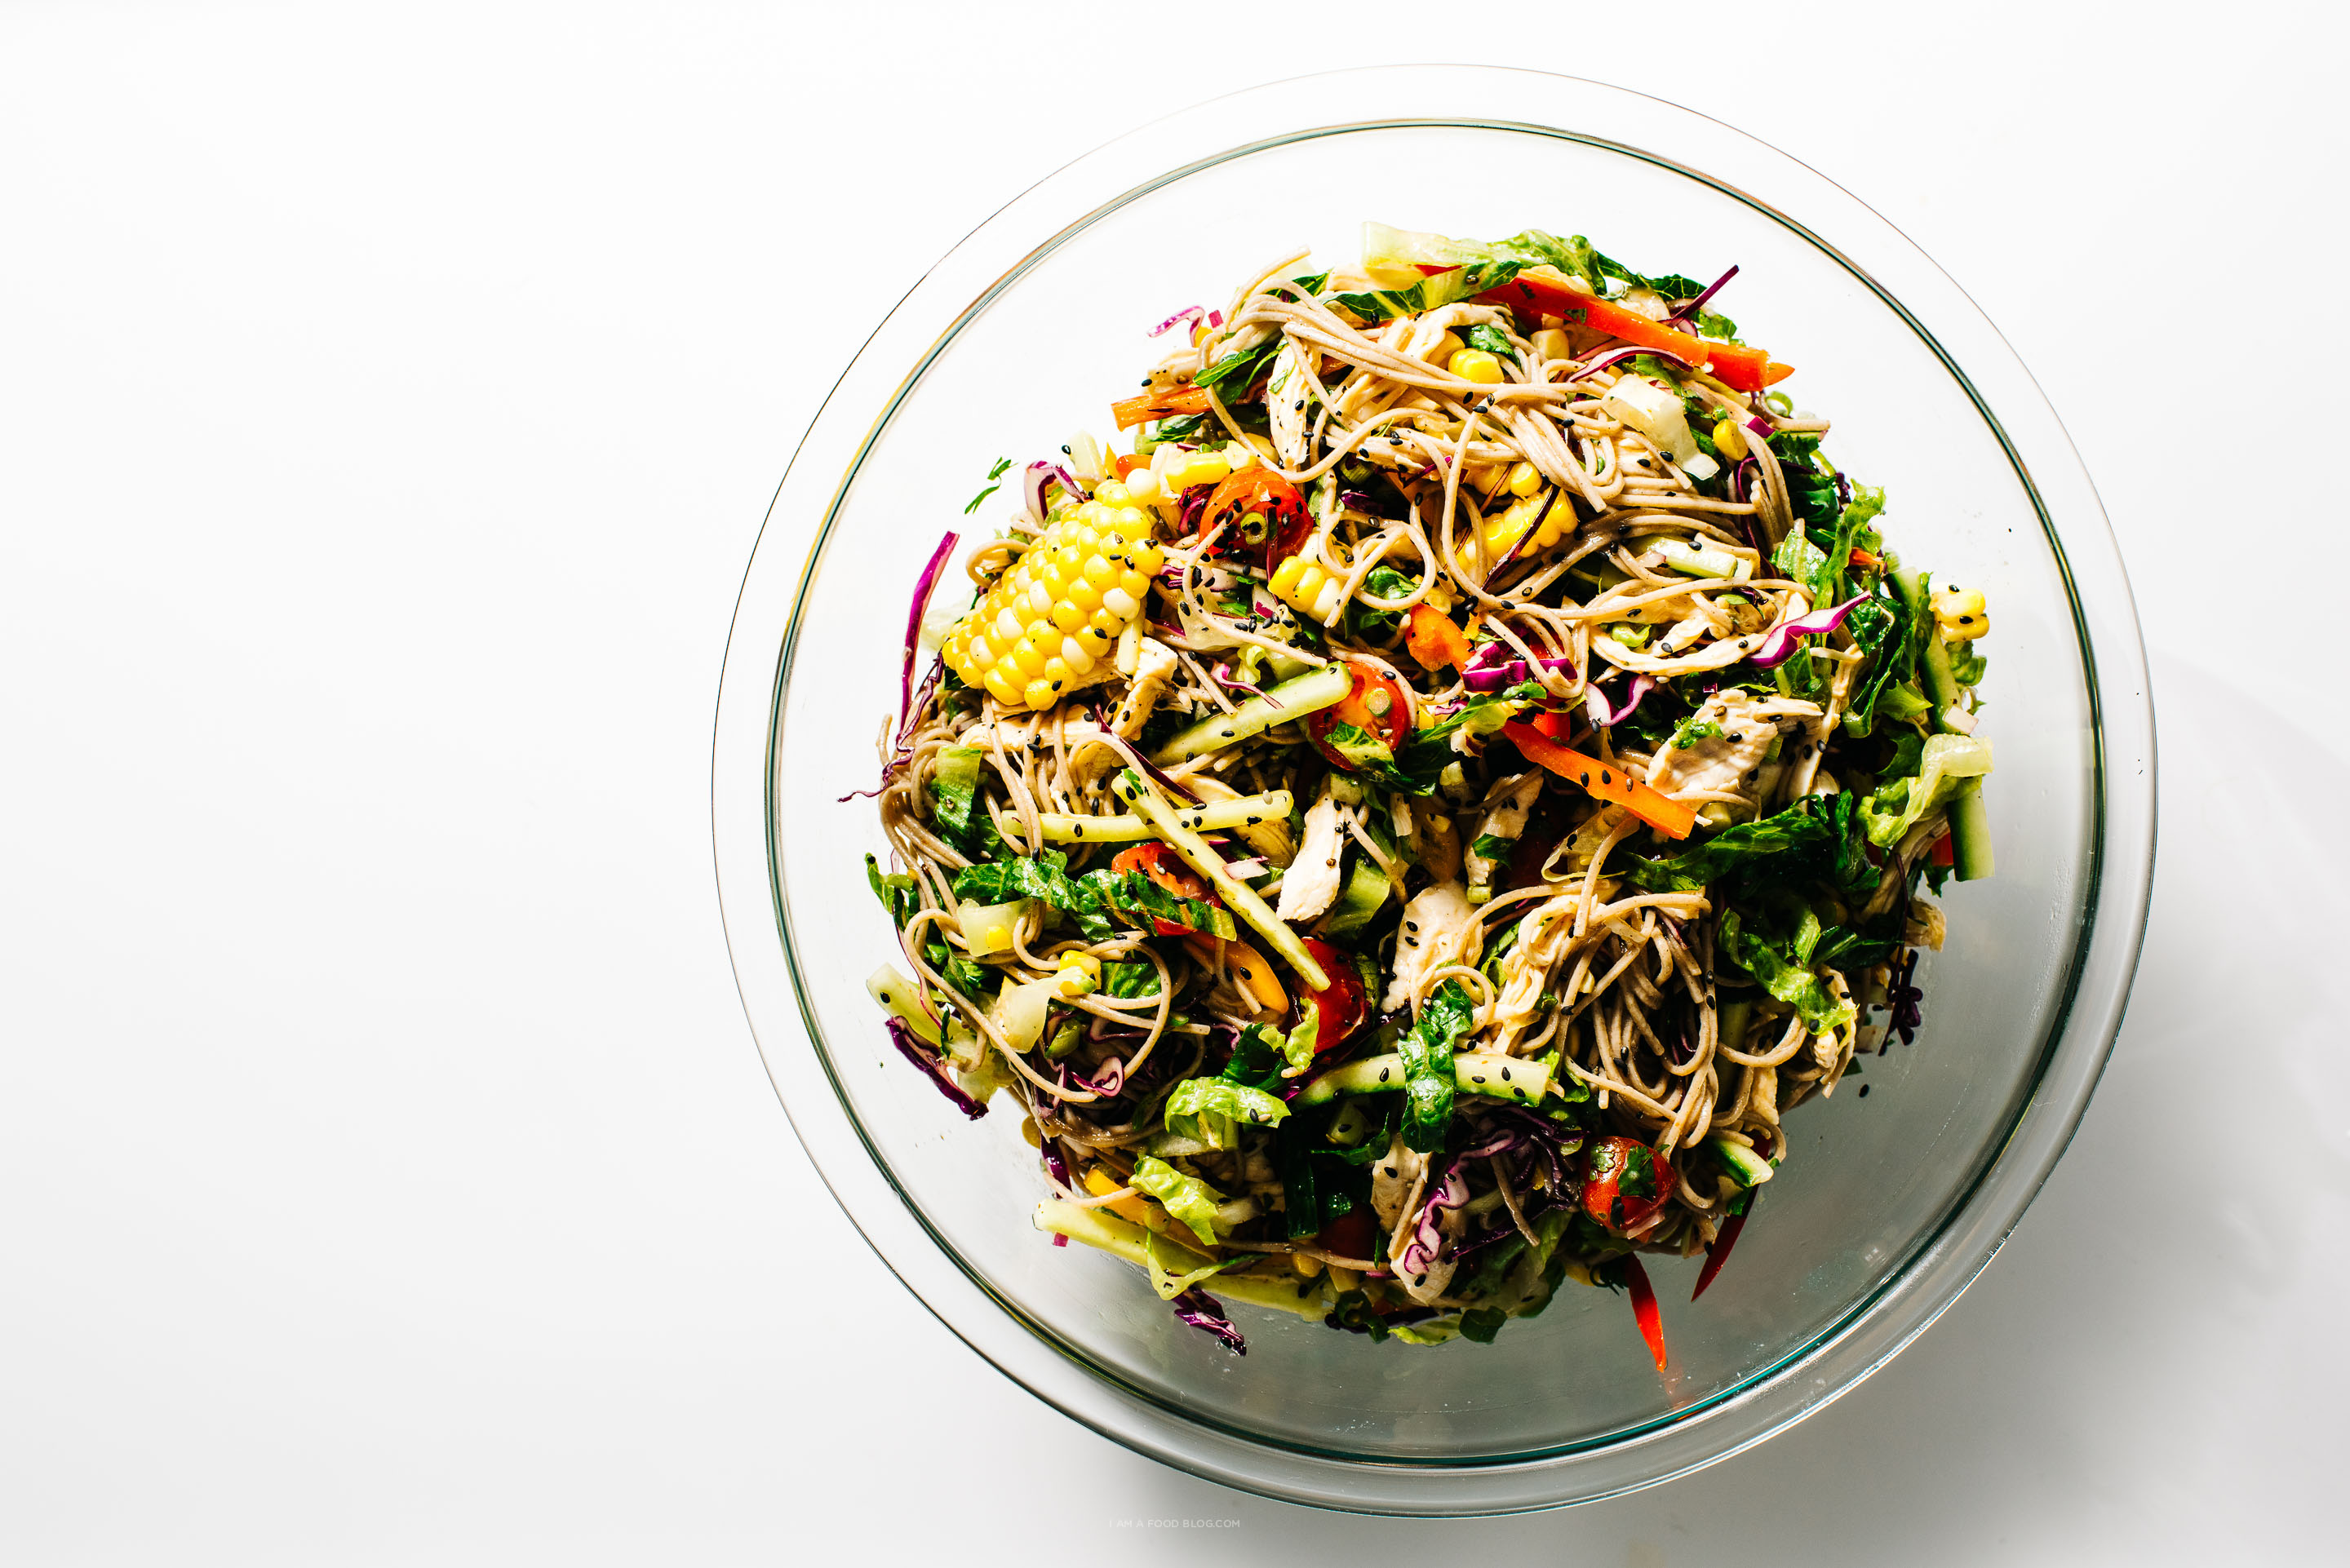Soba: (922, 238, 2009, 1367)
